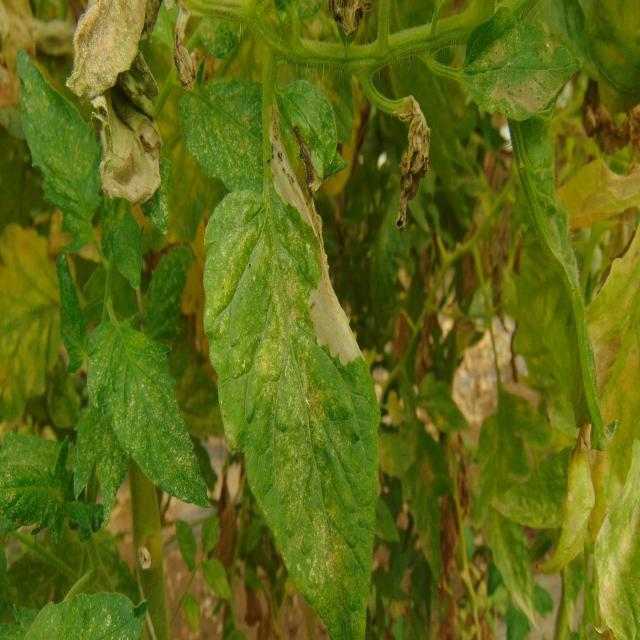Tuta absoluta: (247, 103, 364, 371)
